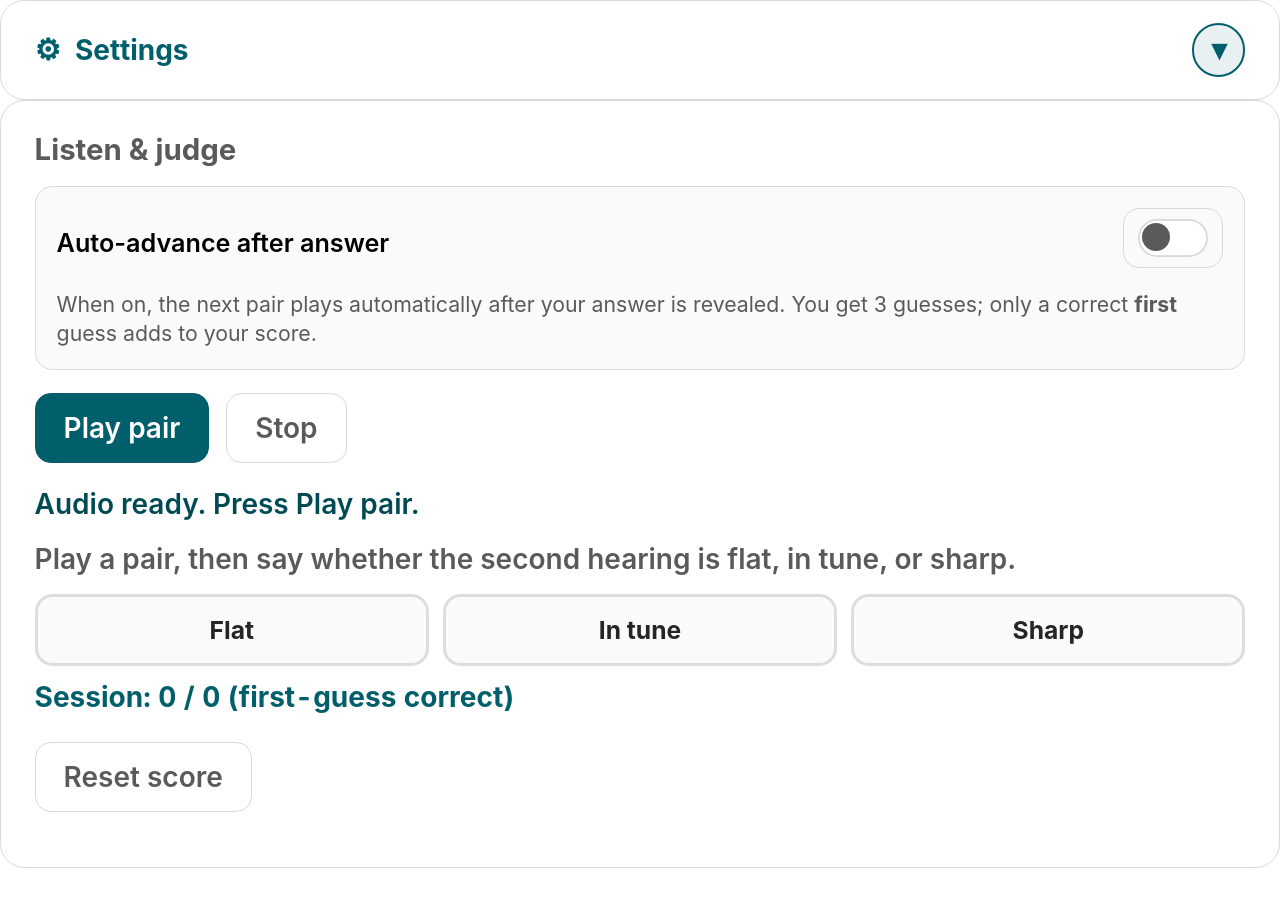
Test: TuningTopic — first-guess scoring (docs/05-topics/11 §7) › counts a first-try correct answer as total+1, correct+1
Click the button "Play pair" at (122,428), box [35,393,209,463]
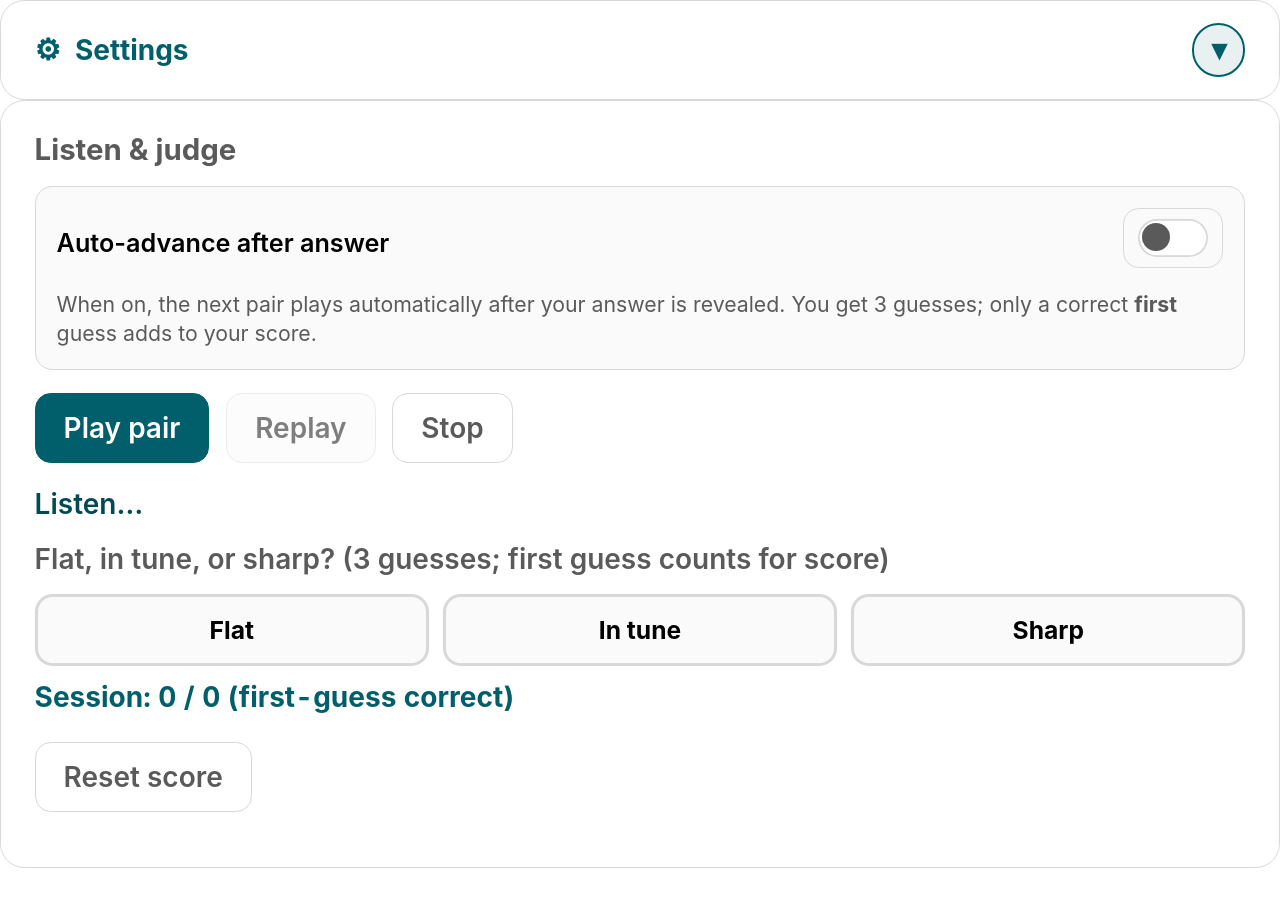
Click the button "In tune" at (640,630), box [443,594,837,666]
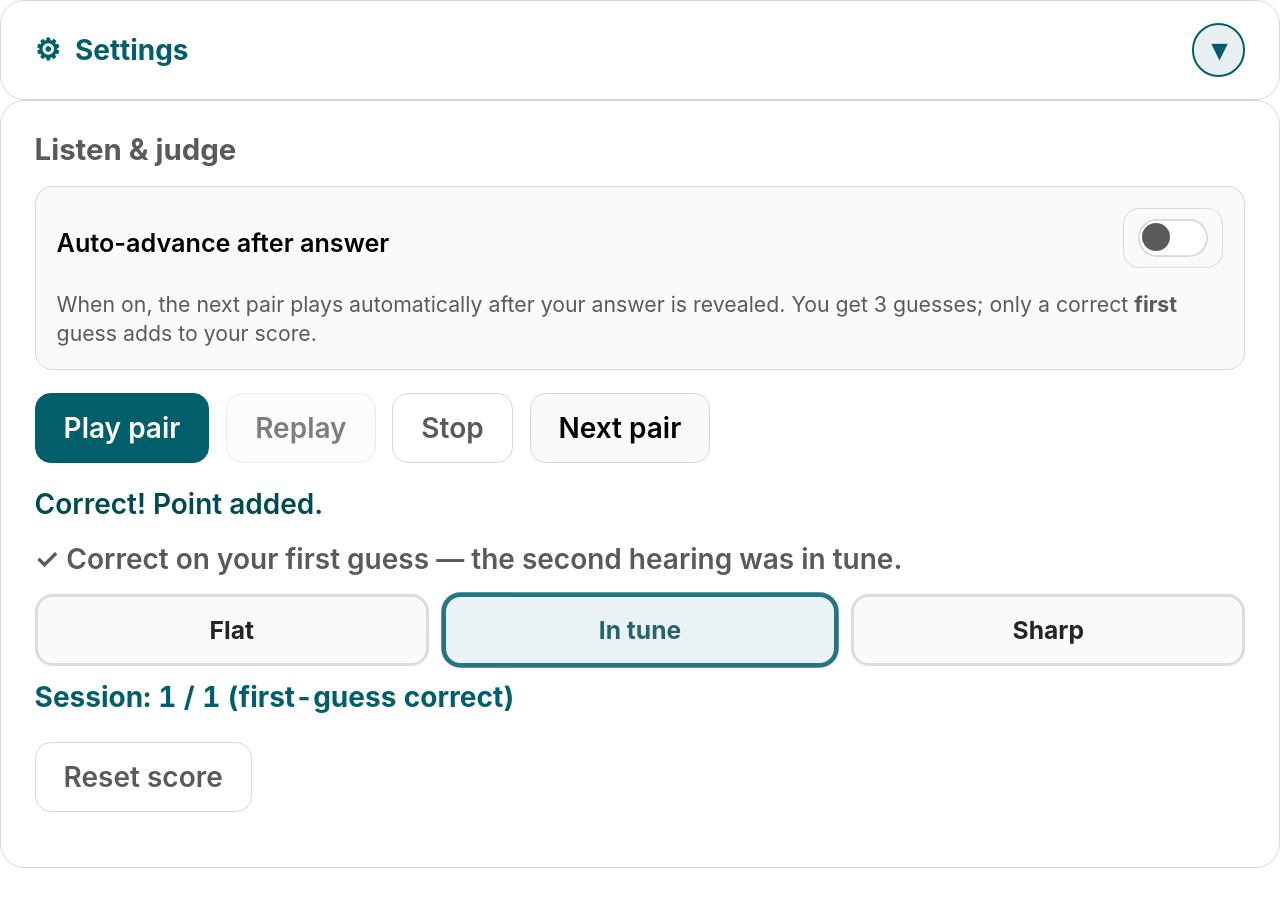
Now the text "Session: 1 / 1 (first-guess correct)" is shown, box [35,680,514,714]
